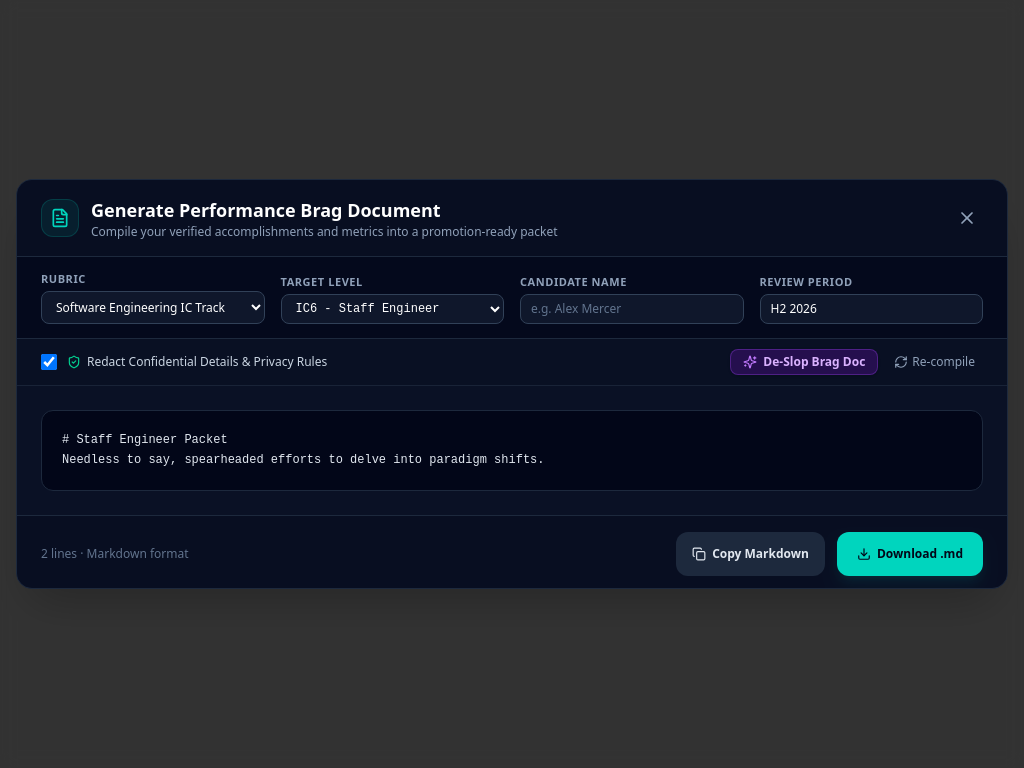
Test: Subagent C: UI Anti-Slop Integration Tests › BragDocModal De-Slop Integration › renders De-Slop Brag Doc button and cleans AI buzzwords from generated packet
Expected: the text "Needless to say, spearheaded efforts to delve into paradigm shifts" is shown, 62,433 -> 544,467
Click the button "De-Slop Brag Doc" at [804, 362], box 730,349 -> 878,375
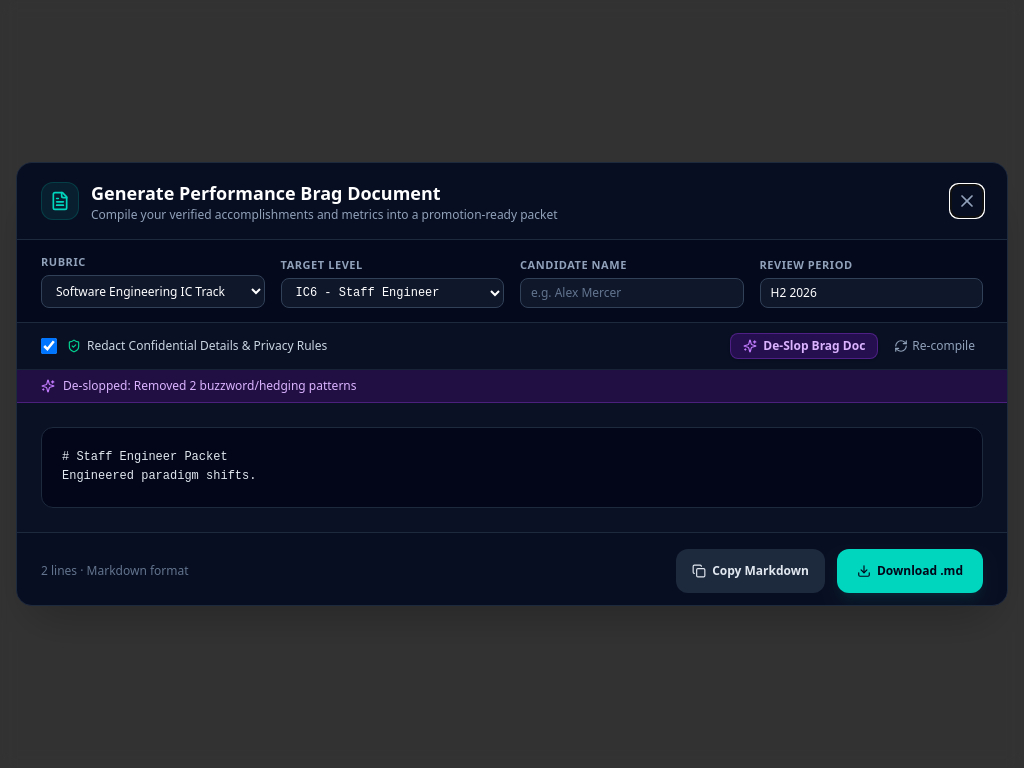
Expected: the text "De-slopped: Removed 2 buzzword/hedging patterns" is shown, 63,378 -> 356,394
Expected: the text "# Staff Engineer Packet Engineered paradigm shifts." is shown, 41,427 -> 983,508
